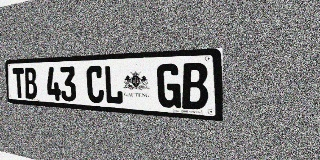3: (60, 66, 76, 102)
4: (46, 67, 61, 101)
B: (181, 62, 208, 110), (24, 67, 37, 99)
C: (86, 65, 104, 104)
G: (157, 63, 181, 108)
L: (104, 65, 123, 105)
T: (12, 68, 25, 98)
